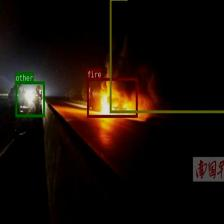fire: (87, 78, 137, 117)
smoke: (109, 0, 224, 112)
